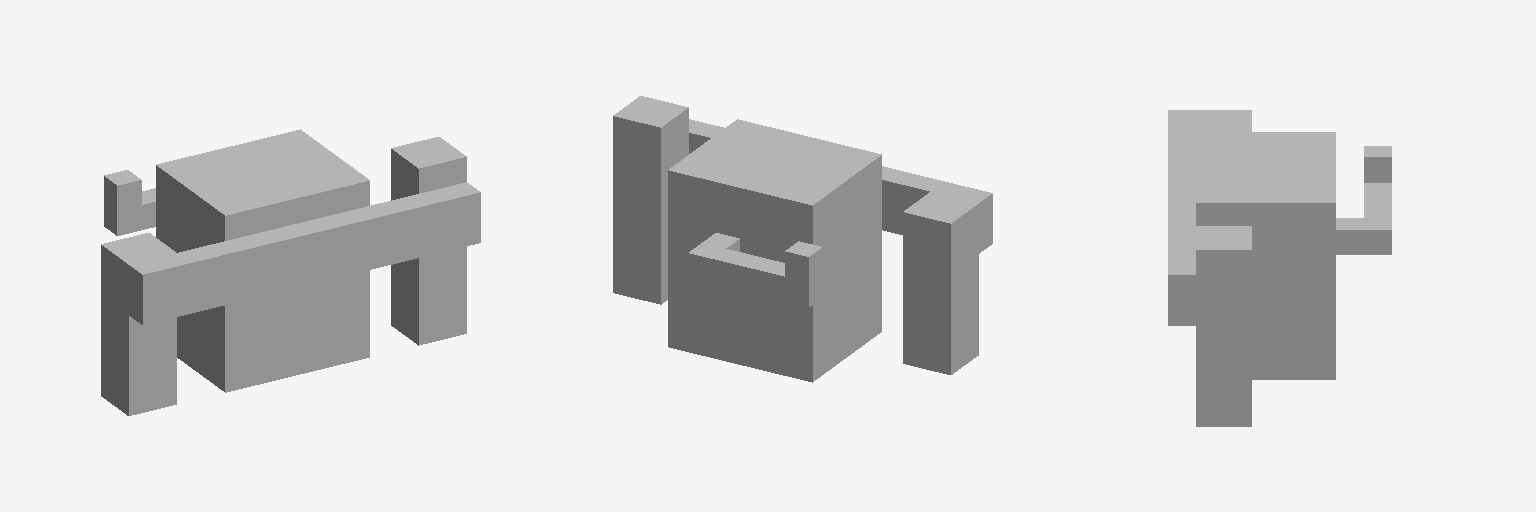
Rendered from power_generators_ce_starter_manual.obj.
3 renders of one model, left to right at view 1: azimuth 30°, elevation 25°; view 2: azimuth 150°, elevation 25°; view 3: azimuth 270°, elevation 25°, orthographic.
Parts seen in each view (by area): view 1: node_0_0_0.007; view 2: node_0_0_0.007; view 3: node_0_0_0.007.
Boxes of the visible parts, x1=… form: node_0_0_0.007: x1=101, y1=129, x2=480, y2=415; node_0_0_0.007: x1=613, y1=96, x2=992, y2=382; node_0_0_0.007: x1=1168, y1=110, x2=1391, y2=426.
Size of the model in its own units: 0.875 by 0.4375 by 0.5.